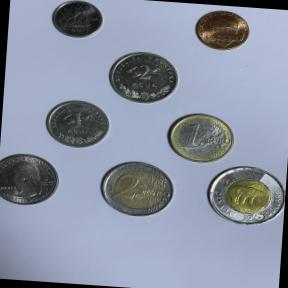1 Euro: (162, 109, 236, 167)
2 Euro: (94, 156, 178, 221)
Canda-10cent-: (46, 0, 107, 42)
Canda-2Dollar-: (200, 163, 286, 232)
Croatia-2Kune-: (101, 47, 185, 107)
US-1cent-: (189, 4, 254, 55)
US-25cent-: (0, 147, 64, 211)
